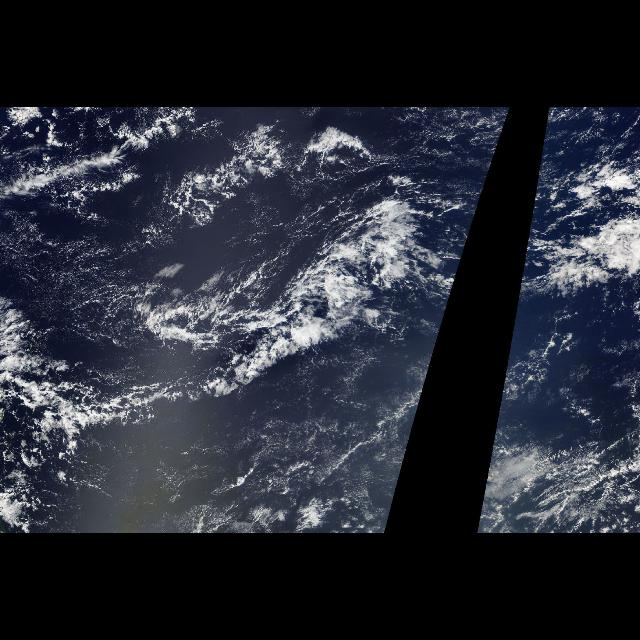Fish: (0, 172, 448, 434)
Gravel: (1, 110, 251, 284)
Sugar: (8, 220, 156, 340), (85, 434, 217, 534)
